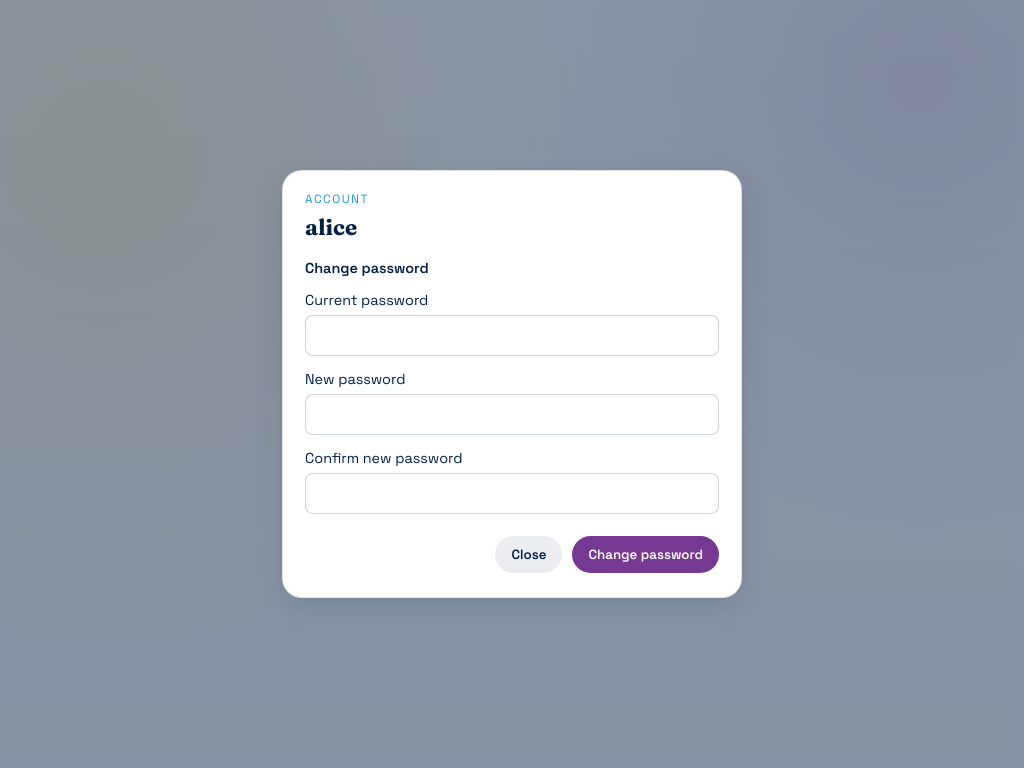
Scenario: UserProfileModal › shows error on wrong current password (401)
In the password field labelled "Current password": (512, 336) [305,315,719,356], type "wrongpass"
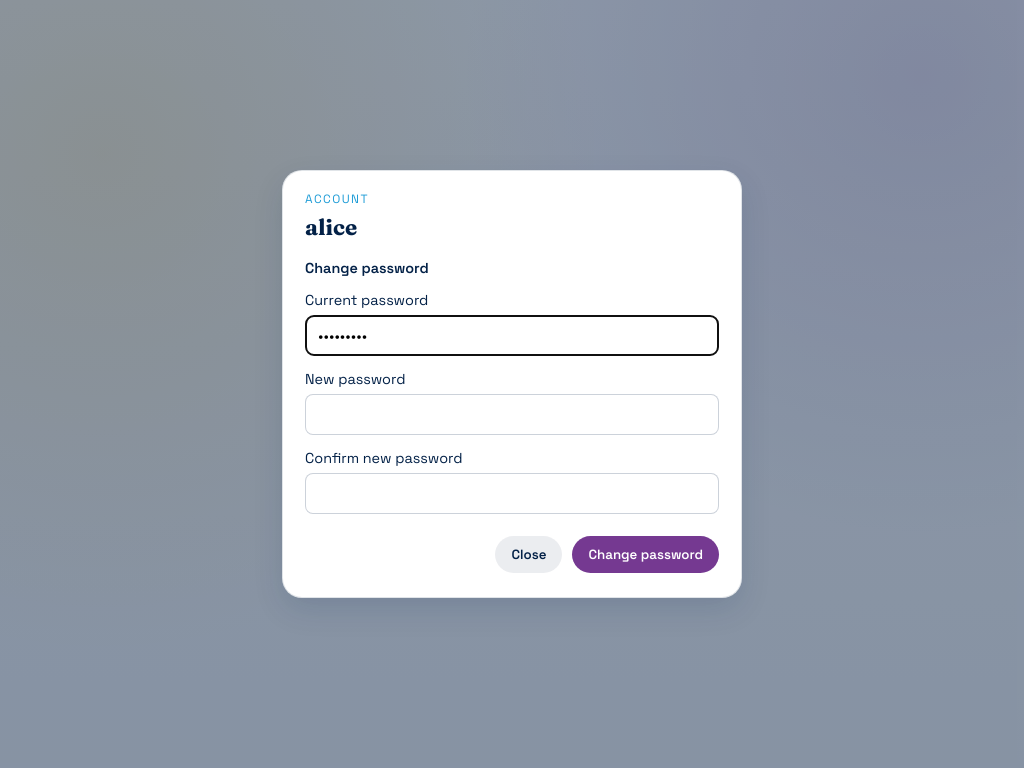
In the password field labelled "New password": (512, 414) [305,394,719,435], type "newpassword"
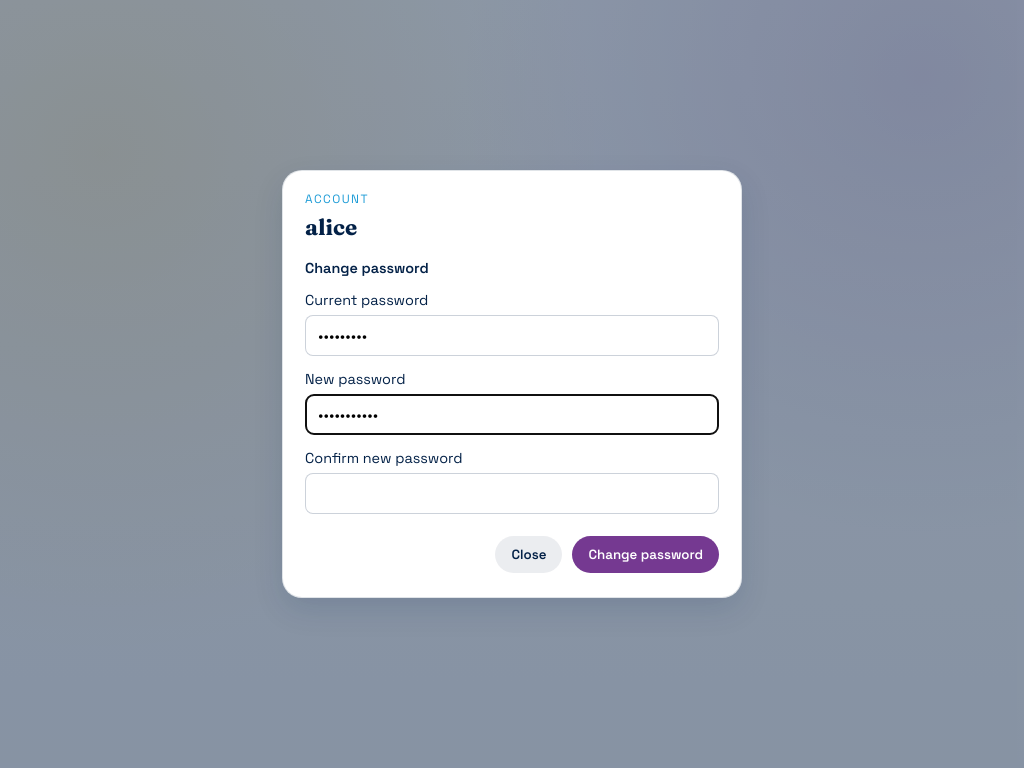
In the password field labelled "Confirm new password": (512, 494) [305,473,719,514], type "newpassword"
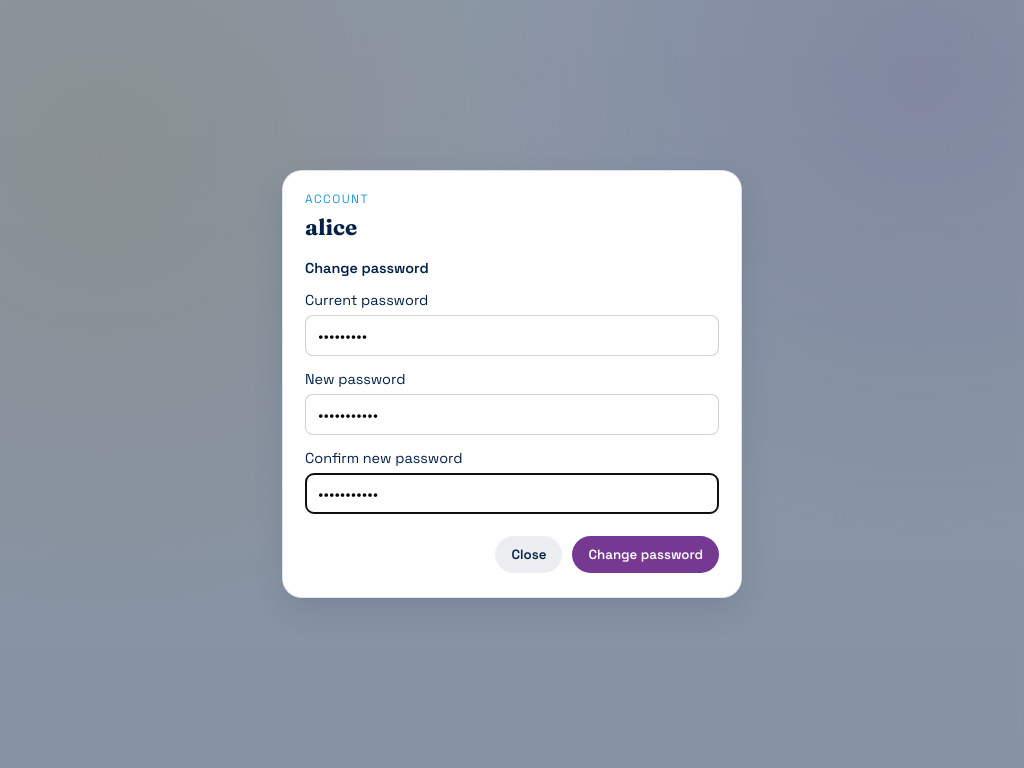
Click the button "Change password": (646, 554) [572,536,719,573]
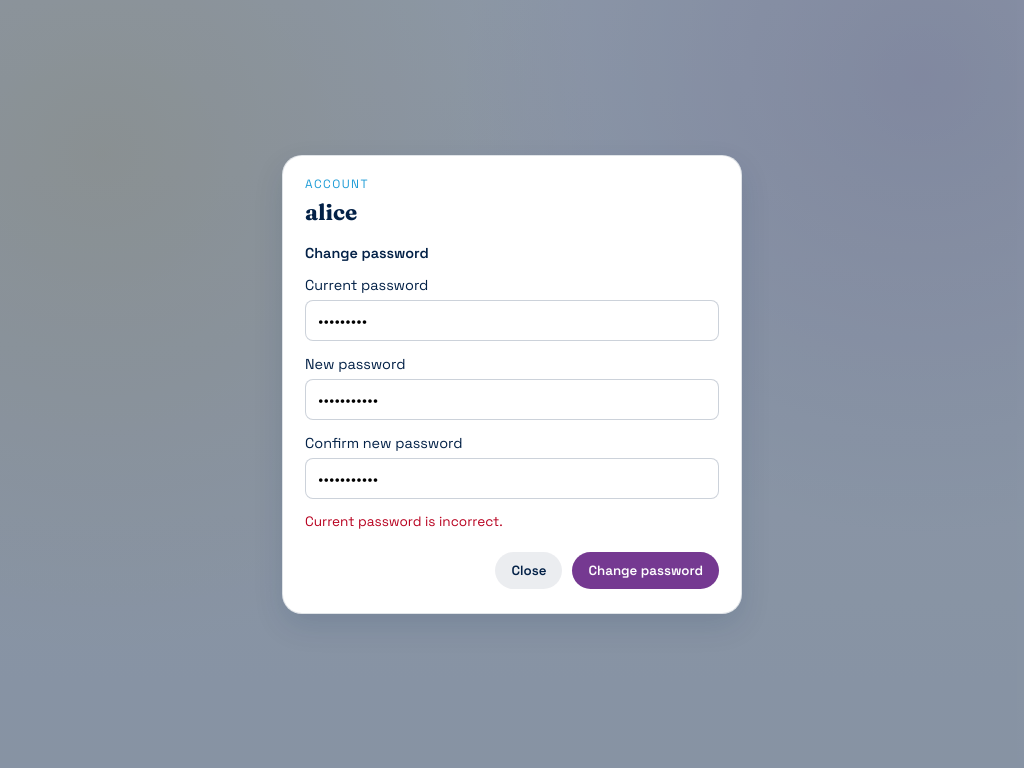
Now the text "Current password is incorrect." is shown, box [305,512,503,530]
